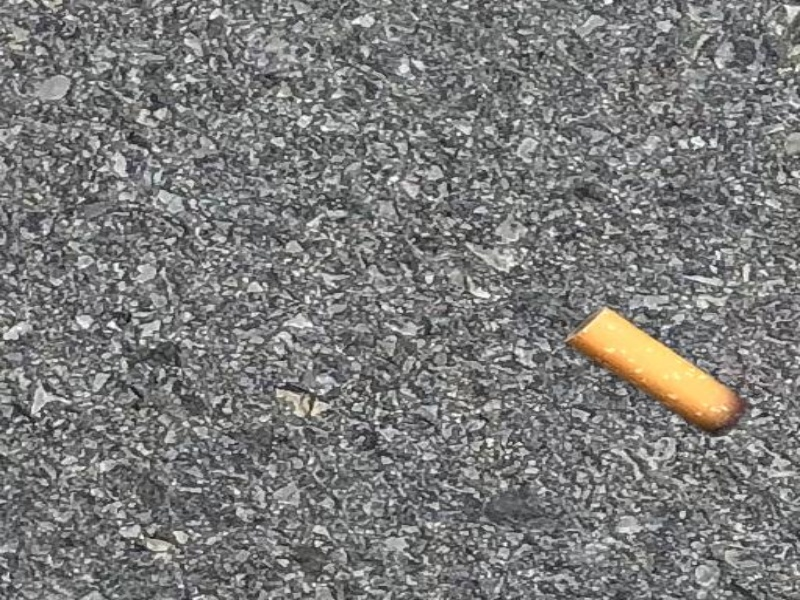cig: (571, 297, 746, 445)
